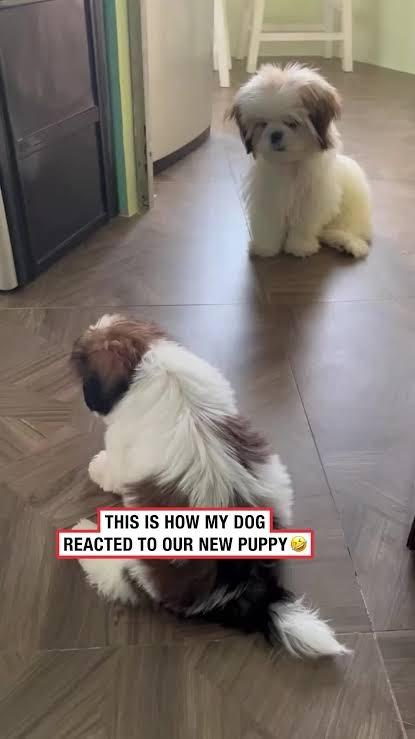adult_dog: (223, 63, 374, 262)
puppy-dog: (65, 312, 355, 662)
